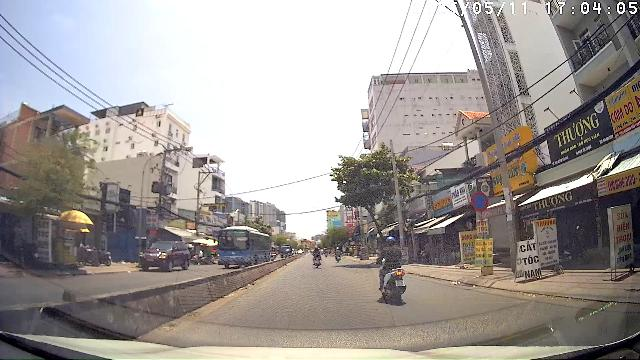131a-cam-do-xe: (471, 191, 489, 211)
